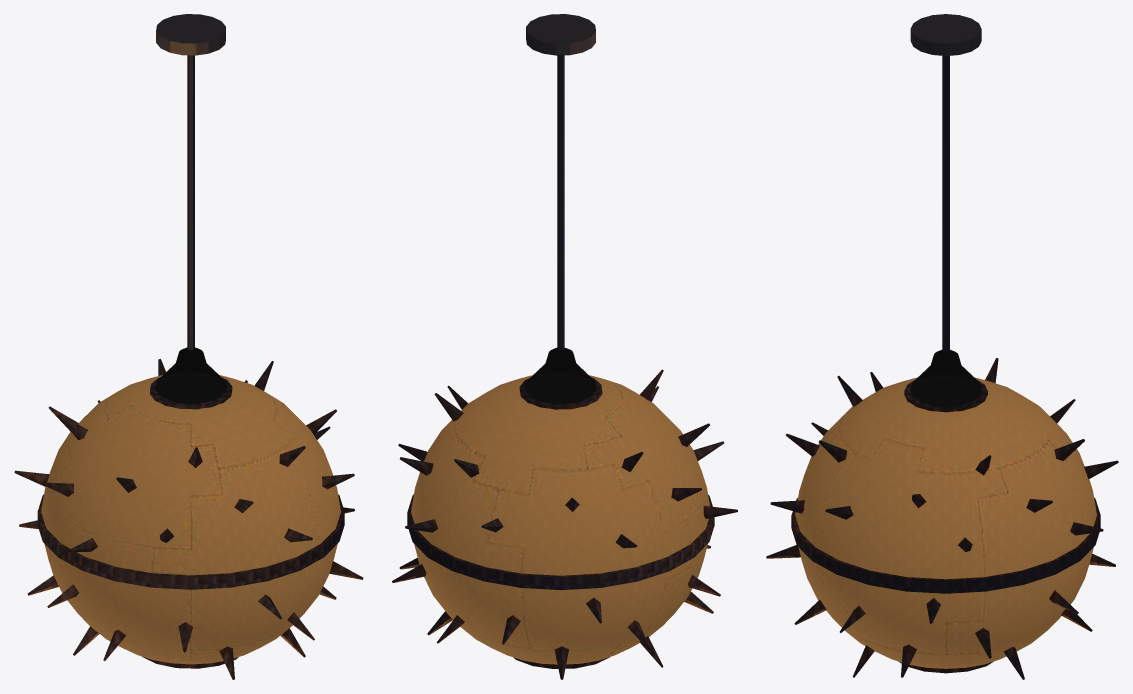
File: owlcove_lantern.glb
3 views of the same model, side by side, from view 1: azimuth 30°, elevation 25°; view 2: azimuth 150°, elevation 25°; view 3: azimuth 270°, elevation 25° (orthographic).
Parts seen in each view (by area): view 1: owlcove_lantern; view 2: owlcove_lantern; view 3: owlcove_lantern.
Boxes of the visible parts, <box> form: owlcove_lantern: <box>14,14,363,679</box>; owlcove_lantern: <box>392,14,737,679</box>; owlcove_lantern: <box>766,14,1118,679</box>.
Size of the model in its own units: 0.4023 by 0.771 by 0.3966.
Materials: 2 (1 with a texture image).
